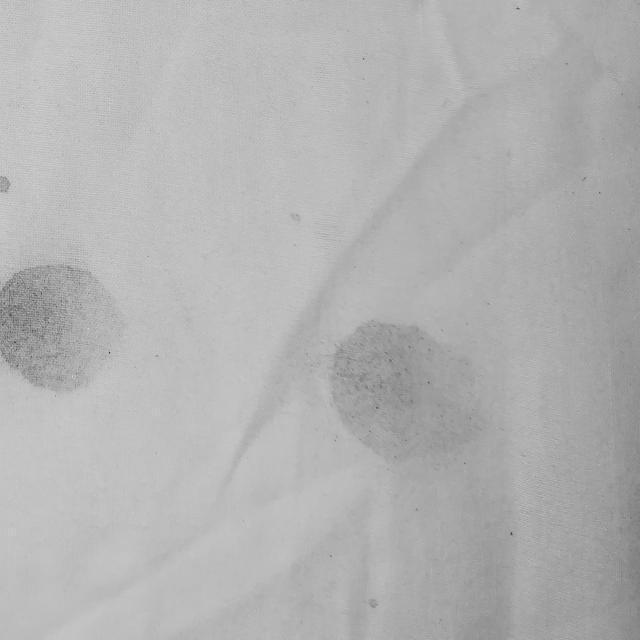Stain: (330, 321, 483, 461), (0, 265, 122, 391), (0, 174, 9, 192), (290, 210, 302, 223), (367, 599, 379, 610)
